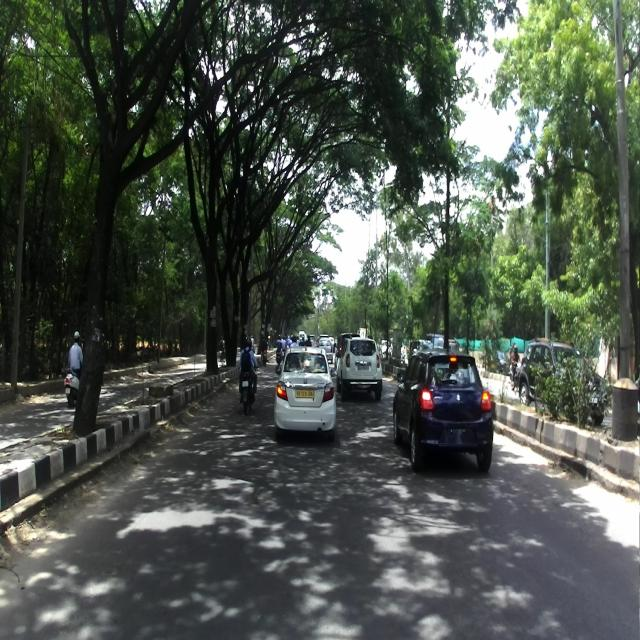Car_Honda: (274, 344, 337, 443)
Car_Maruti-Suzuki: (392, 348, 494, 472)
